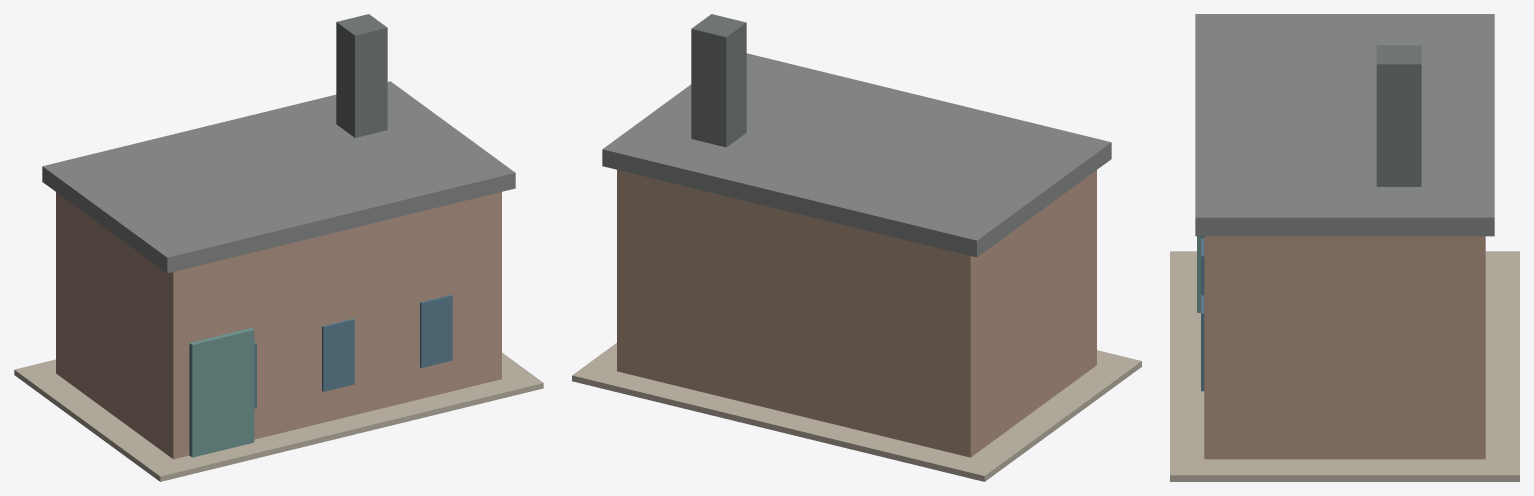
File: bread_plant_3x2.glb
The picture shows the model from 3 angles, left to right: view 1: azimuth 30°, elevation 25°; view 2: azimuth 150°, elevation 25°; view 3: azimuth 270°, elevation 25°; orthographic projection. The views are drawn at different scales.
Parts seen in each view (by area): view 1: bread_plant_3x2; view 2: bread_plant_3x2; view 3: bread_plant_3x2.
Boxes of the visible parts, bbox=[...] form: bread_plant_3x2: bbox=[14, 14, 543, 481]; bread_plant_3x2: bbox=[572, 14, 1141, 481]; bread_plant_3x2: bbox=[1170, 14, 1519, 481].
Bounding box in the file's own units: 5.88 × 4.61 × 3.88.
